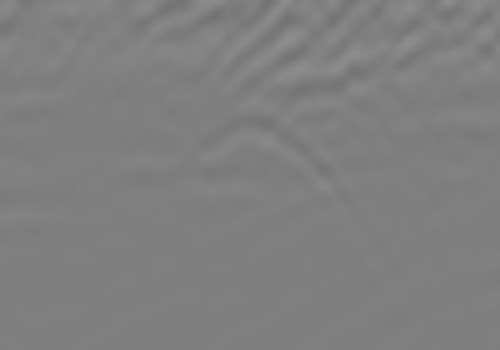hyperbola: (159, 97, 383, 261)
